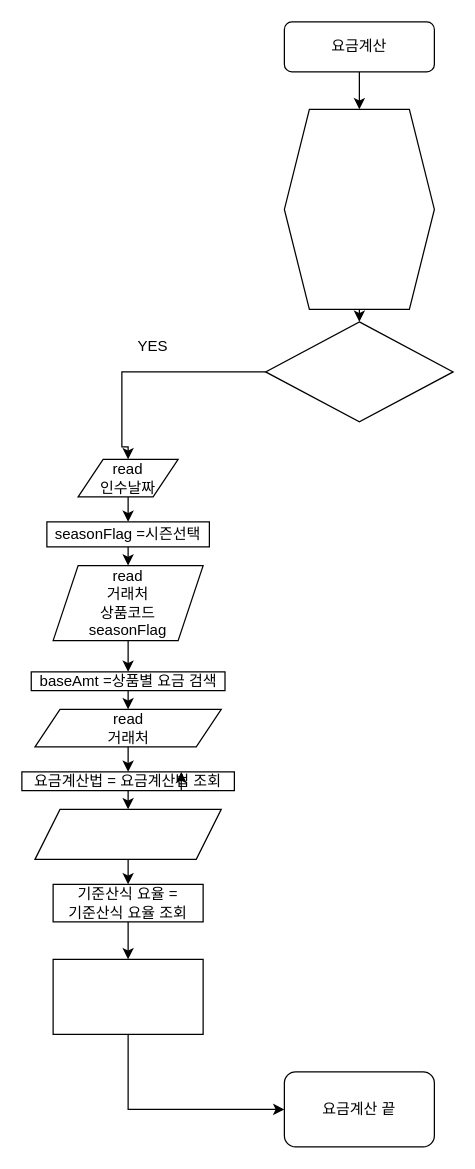
Some shapes in this 475 by 1169 pixel diagram are drawn without their labels. Here are the shapes that lost their labels. From the top down, the box of each, then its label:
(283, 108, 434, 309): 인수 날짜 반납 날짜 인수 시간 반납 시간 상품코드 운전자 나이 거래처 seasonFlag baseAmt 요금계산법 기준산식 요율
(264, 321, 453, 422): 인수날짜 == 반납날짜
(34, 808, 221, 859): read 반납시간 - 인수시간 요금계산법
(52, 958, 203, 1034): 요금 계산 기준산식 요율 * baseAmt
